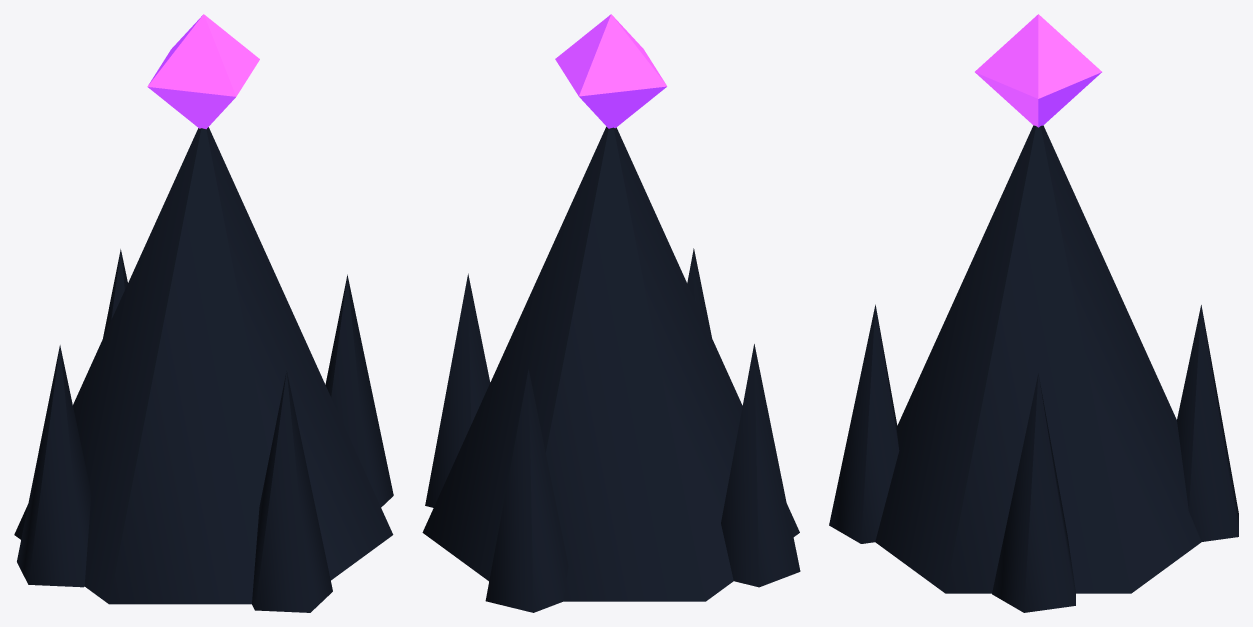
Rendered from rival_citadel.glb.
3 views of the same model, side by side, from view 1: azimuth 30°, elevation 25°; view 2: azimuth 150°, elevation 25°; view 3: azimuth 270°, elevation 25° (orthographic).
Parts seen in each view (by area): view 1: Rival_Citadel; view 2: Rival_Citadel; view 3: Rival_Citadel.
Boxes of the visible parts, left/top/right/bottom form: Rival_Citadel: left=14, top=14, right=393, bottom=612; Rival_Citadel: left=422, top=14, right=800, bottom=612; Rival_Citadel: left=829, top=14, right=1238, bottom=612.
Size of the model in its own units: 7.12 by 9.7 by 7.05.
